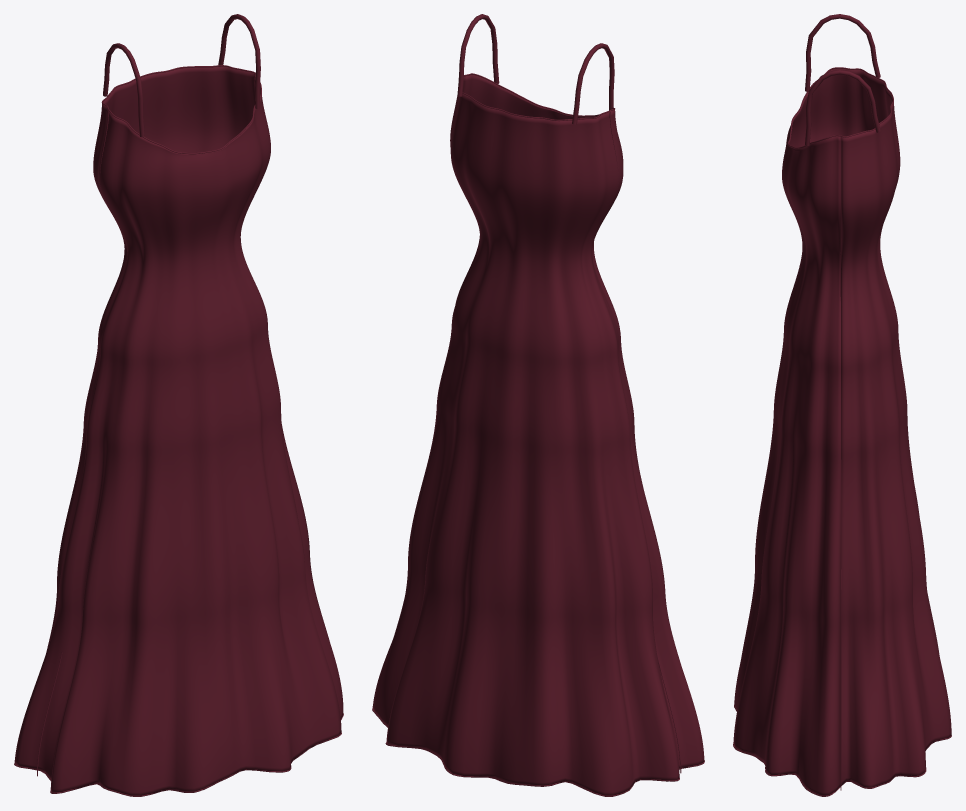
Rendered from draped-gown.glb.
The picture shows the model from 3 angles, left to right: view 1: azimuth 30°, elevation 25°; view 2: azimuth 150°, elevation 25°; view 3: azimuth 270°, elevation 25°; orthographic projection. The views are drawn at different scales.
Visible parts, largest first — view 1: Draped_Gown_Body, Draped_Gown_Strap, Draped_Gown_Strap.001, Draped_Gown_Neckline; view 2: Draped_Gown_Body, Draped_Gown_Strap.001, Draped_Gown_Strap; view 3: Draped_Gown_Body, Draped_Gown_Strap, Draped_Gown_Strap.001, Draped_Gown_Side_Seam.001, Draped_Gown_Neckline.
Boxes of the visible parts, bbox=[...] form: Draped_Gown_Body: bbox=[14, 66, 343, 796]; Draped_Gown_Strap: bbox=[103, 43, 144, 137]; Draped_Gown_Strap.001: bbox=[218, 14, 260, 108]; Draped_Gown_Neckline: bbox=[101, 65, 261, 154]; Draped_Gown_Body: bbox=[372, 74, 704, 796]; Draped_Gown_Strap.001: bbox=[457, 14, 499, 96]; Draped_Gown_Strap: bbox=[572, 43, 614, 124]; Draped_Gown_Body: bbox=[733, 68, 951, 796]; Draped_Gown_Strap: bbox=[805, 14, 880, 91]; Draped_Gown_Strap.001: bbox=[805, 70, 880, 145]; Draped_Gown_Side_Seam.001: bbox=[840, 137, 841, 790]; Draped_Gown_Neckline: bbox=[787, 67, 893, 148].
Size of the model in its own units: 1.82 by 4.03 by 1.17.
